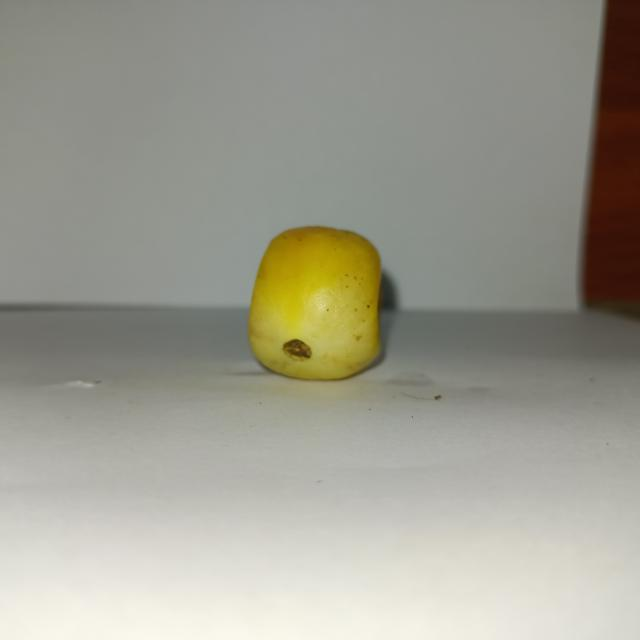Green: (246, 224, 383, 381)
